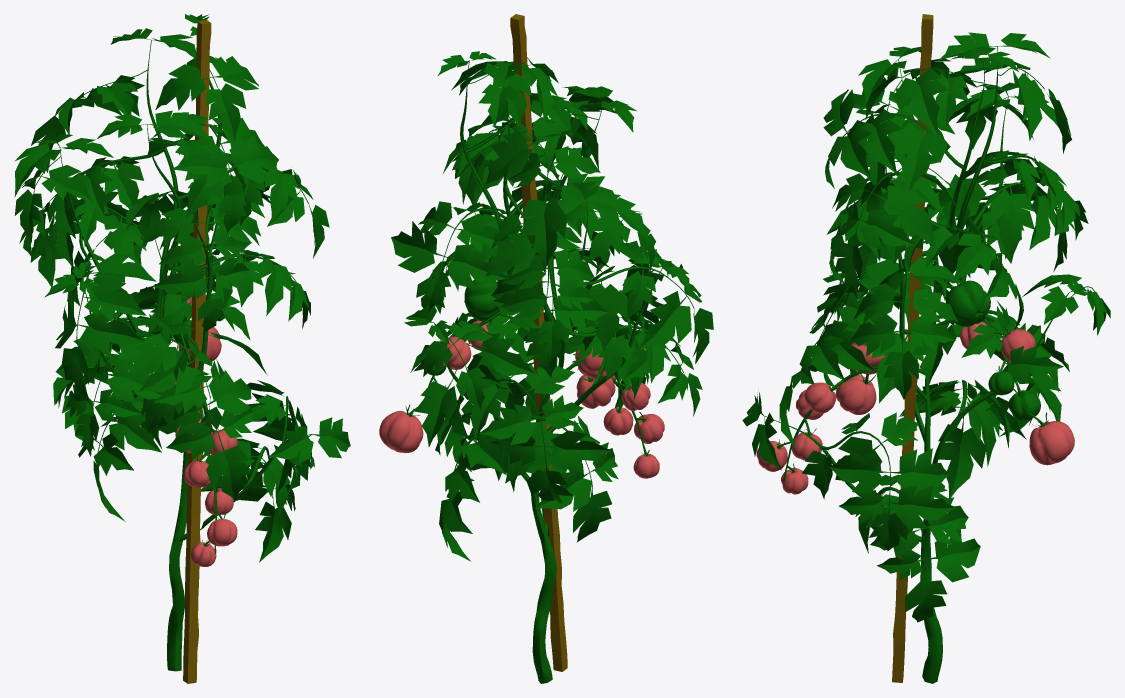
File: tomato_model.fbx
The picture shows the model from 3 angles, left to right: view 1: azimuth 30°, elevation 25°; view 2: azimuth 150°, elevation 25°; view 3: azimuth 270°, elevation 25°; orthographic projection. The views are drawn at different scales.
Parts seen in each view (by area): view 1: wood1, polySurface258, polySurface149, polySurface97, polySurface223, polySurface147, polySurface222, polySurface229, polySurface227, polySurface100, polySurface138, polySurface94 (+59 smaller); view 2: wood1, polySurface258, polySurface204, polySurface148, polySurface82, polySurface125, polySurface126, polySurface118, polySurface200, polySurface256, polySurface115, polySurface142 (+61 smaller); view 3: wood1, polySurface258, polySurface74, polySurface217, polySurface228, polySurface184, polySurface62, polySurface256, polySurface171, polySurface246, polySurface53, polySurface60 (+57 smaller).
Boxes of the visible parts, <box> form: wood1: <box>183,19,211,683</box>; polySurface258: <box>161,293,187,671</box>; polySurface149: <box>78,309,145,357</box>; polySurface97: <box>206,441,253,500</box>; polySurface223: <box>229,134,278,183</box>; polySurface147: <box>83,278,146,321</box>; polySurface222: <box>171,144,232,188</box>; polySurface229: <box>205,83,246,140</box>; polySurface227: <box>155,64,212,110</box>; polySurface100: <box>130,333,176,381</box>; polySurface138: <box>103,358,163,403</box>; polySurface94: <box>205,370,251,414</box>; wood1: <box>510,14,567,671</box>; polySurface258: <box>531,355,557,683</box>; polySurface204: <box>519,191,567,266</box>; polySurface148: <box>638,291,691,349</box>; polySurface82: <box>545,430,612,472</box>; polySurface125: <box>391,221,443,272</box>; polySurface126: <box>444,244,506,288</box>; polySurface118: <box>414,379,457,446</box>; polySurface200: <box>485,131,536,185</box>; polySurface256: <box>379,410,423,453</box>; polySurface115: <box>469,333,535,377</box>; polySurface142: <box>585,281,627,350</box>; wood1: <box>892,14,933,682</box>; polySurface258: <box>920,286,942,683</box>; polySurface74: <box>938,420,985,497</box>; polySurface217: <box>890,122,947,192</box>; polySurface228: <box>893,68,949,135</box>; polySurface184: <box>990,186,1034,258</box>; polySurface62: <box>890,485,956,528</box>; polySurface256: <box>1029,421,1074,465</box>; polySurface171: <box>872,188,935,246</box>; polySurface246: <box>946,280,990,326</box>; polySurface53: <box>926,529,980,582</box>; polySurface60: <box>890,448,950,497</box>.
Bounding box in the file's own units: 39.24 × 92.21 × 45.3.
